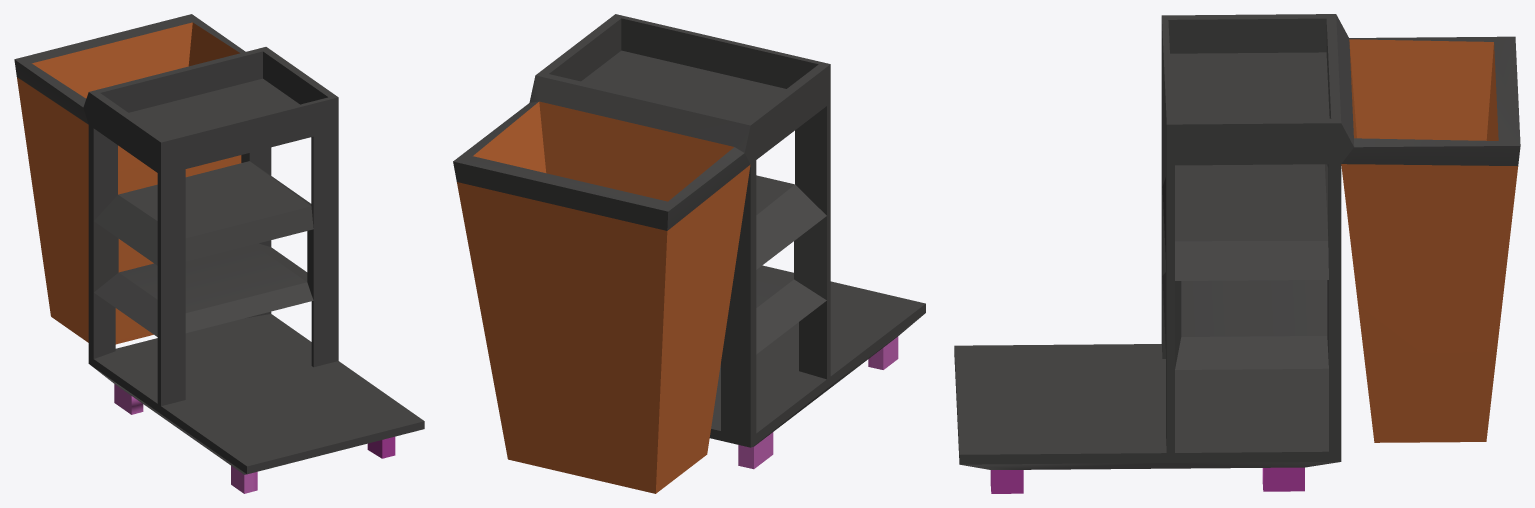
File: cleaning_trolley.fbx
3 views of the same model, side by side, from view 1: azimuth 30°, elevation 25°; view 2: azimuth 150°, elevation 25°; view 3: azimuth 270°, elevation 25° (orthographic). The views are drawn at different scales.
Parts seen in each view (by area): view 1: cleaner_trolley; view 2: cleaner_trolley; view 3: cleaner_trolley.
Boxes of the visible parts, <box> form: cleaner_trolley: <box>14,14,424,493</box>; cleaner_trolley: <box>453,14,925,493</box>; cleaner_trolley: <box>954,14,1520,493</box>.
Bounding box in the file's own units: 78.21 × 121 × 164.
